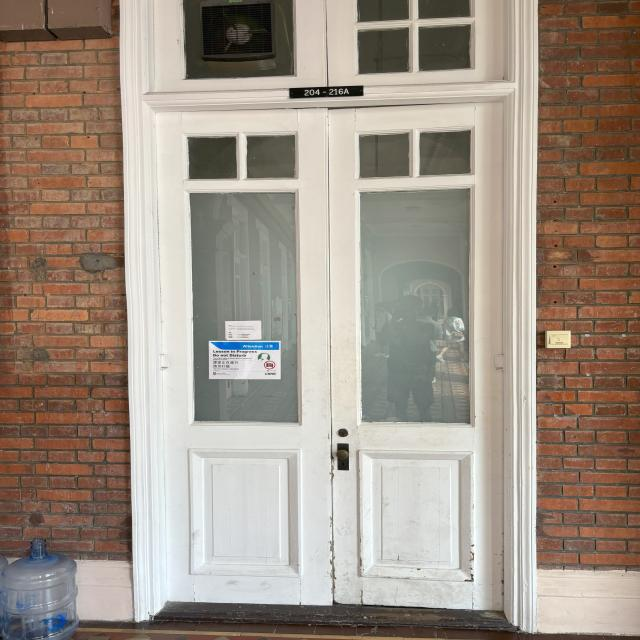MB204_roomNumber: (284, 80, 368, 104)
